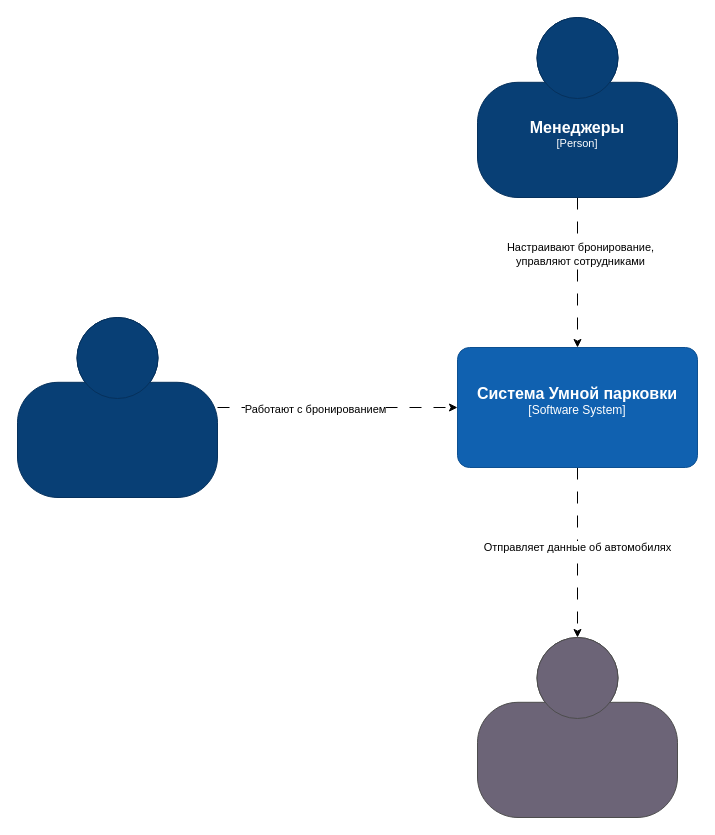
Some shapes in this 715 by 835 pixel diagram are drawn without their labels. The box of each missing label's shape, as (x1, y1, x2, y2) in pixels:
Почта охраны [Person]: (476, 636, 678, 818)
Сотрудники [Person]: (16, 316, 218, 498)
